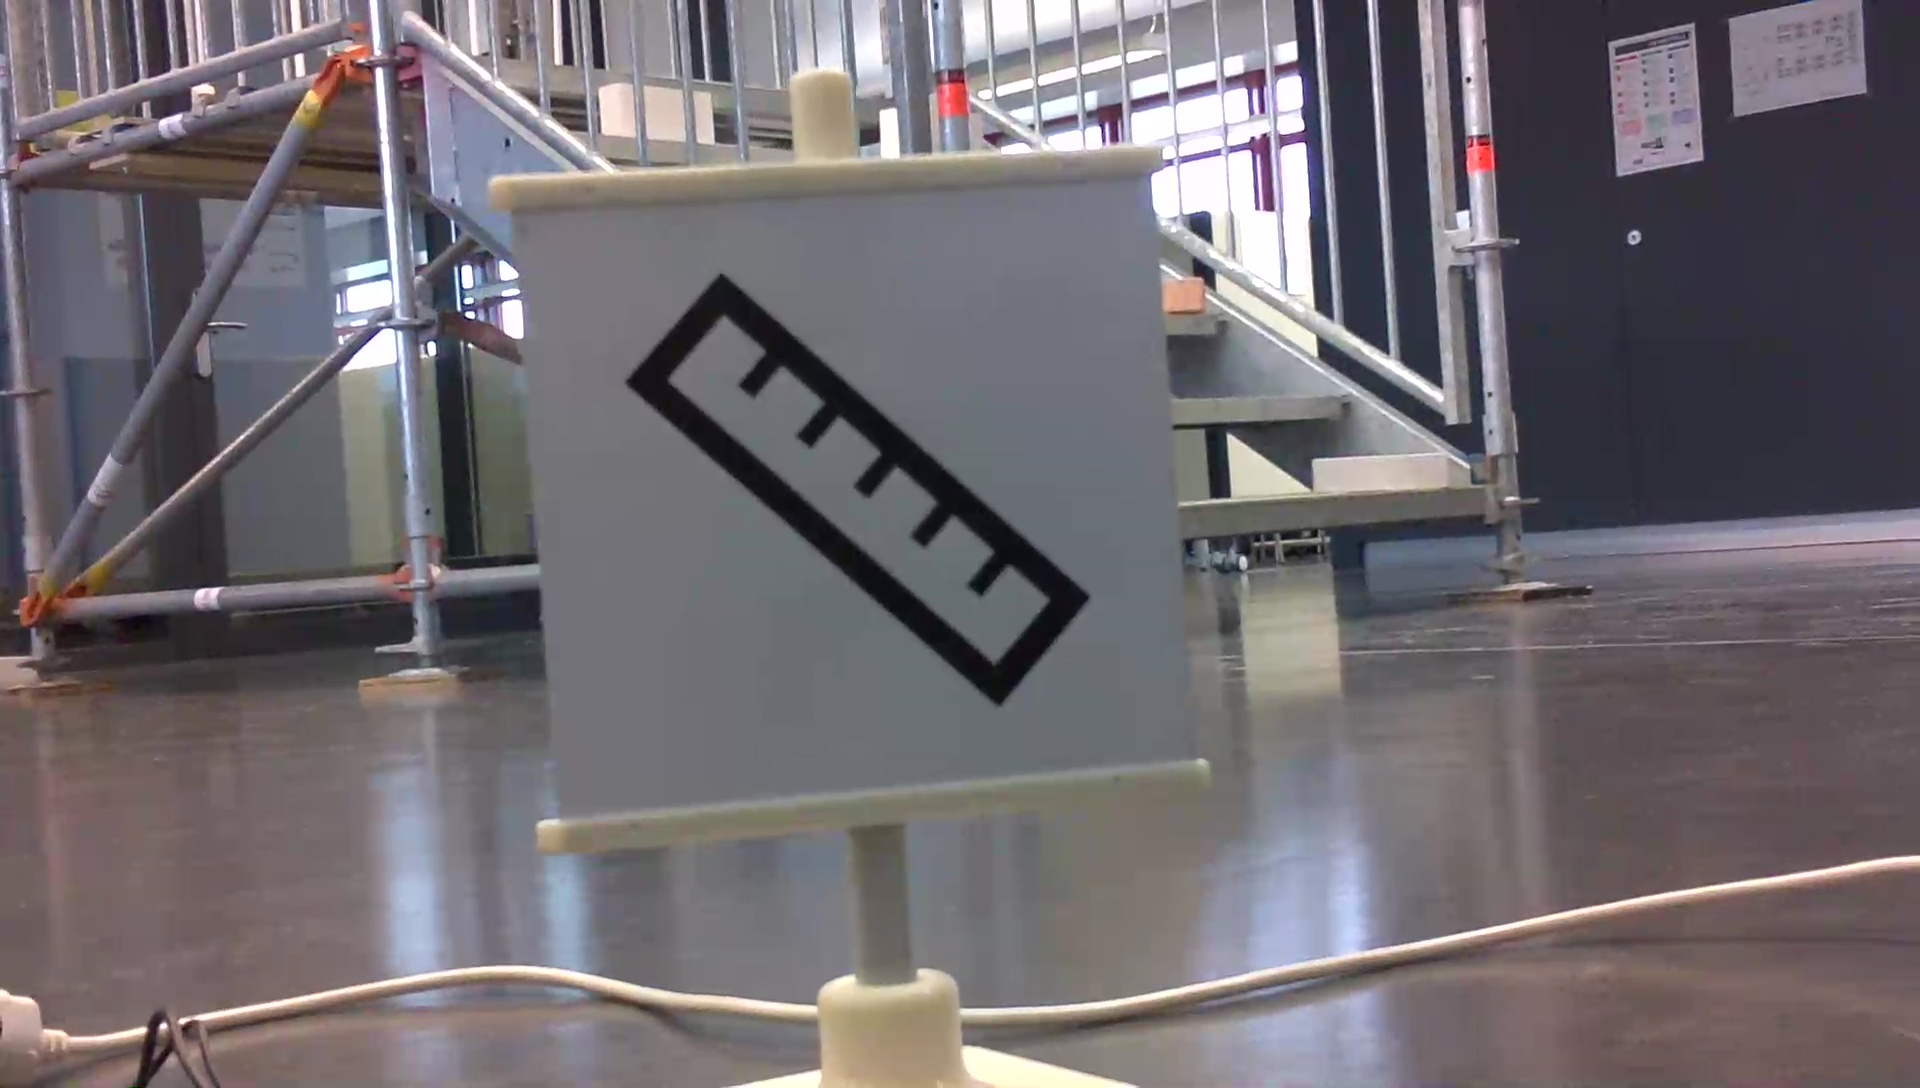ruler: (622, 258, 1095, 715)
